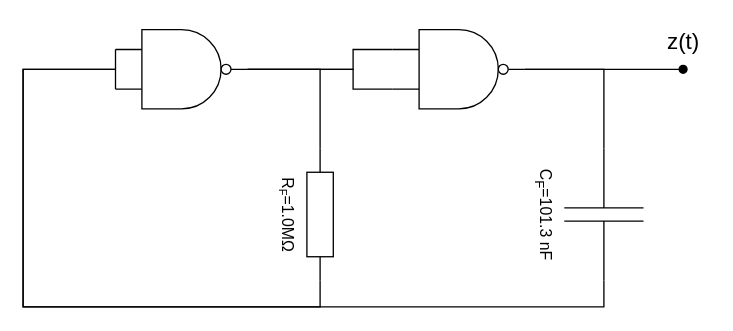
Image size: 733x331. Some labels were removed from this diagram. The centre of each missing label's shape, as x and y in pixels:
N1: the point at 181,68
N2: the point at 458,68
